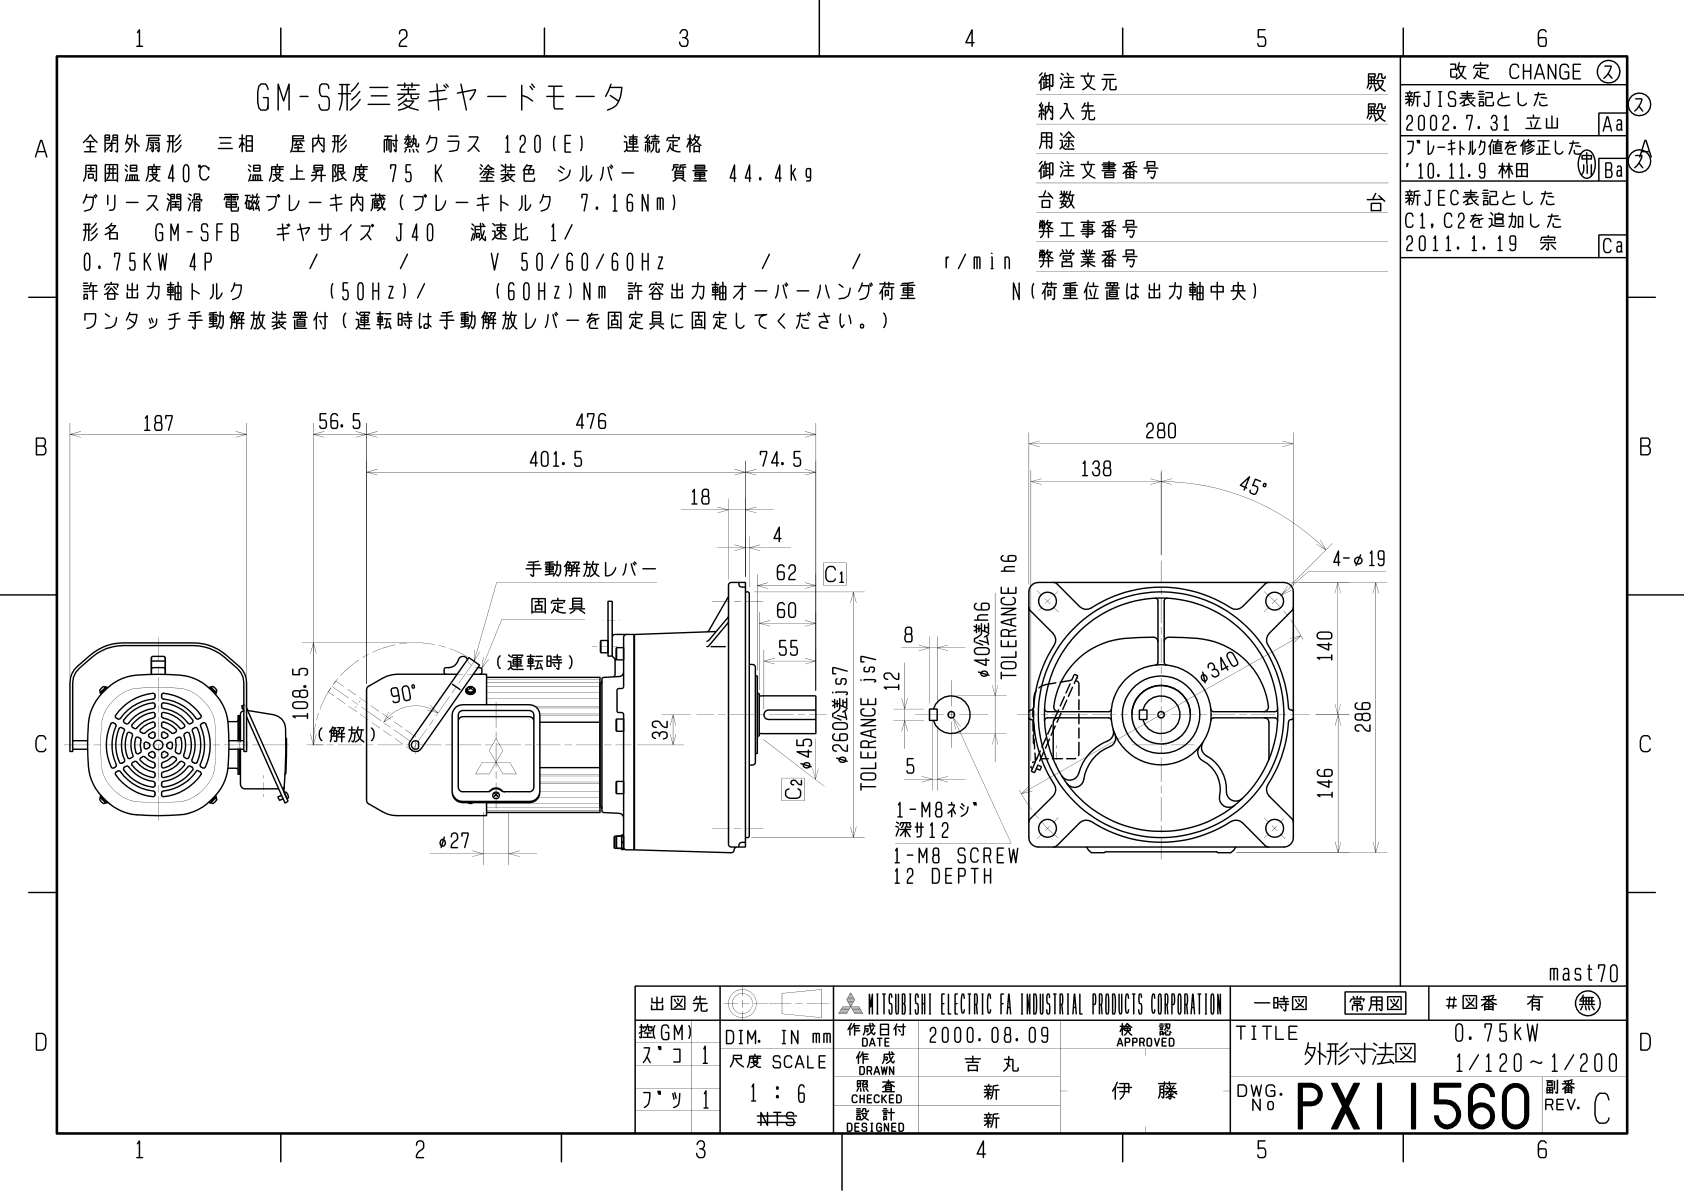GM_S_手動ブレーキ＿三相_フランジ: (61, 391, 1401, 913)
